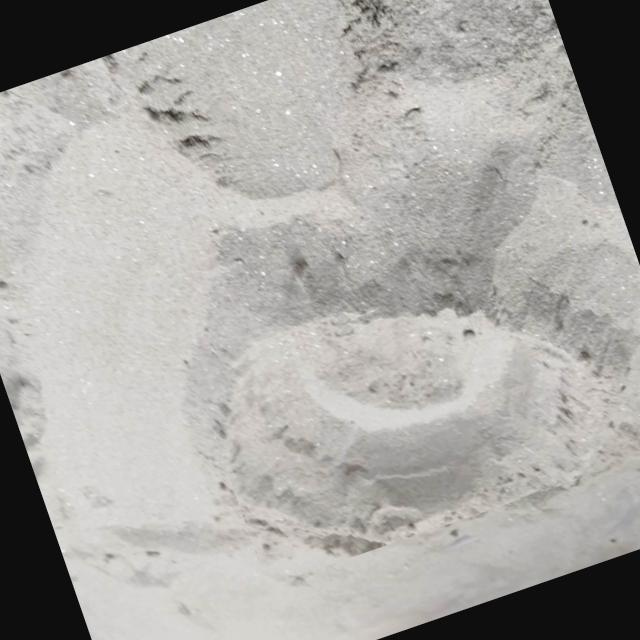C20: (226, 314, 599, 550)
